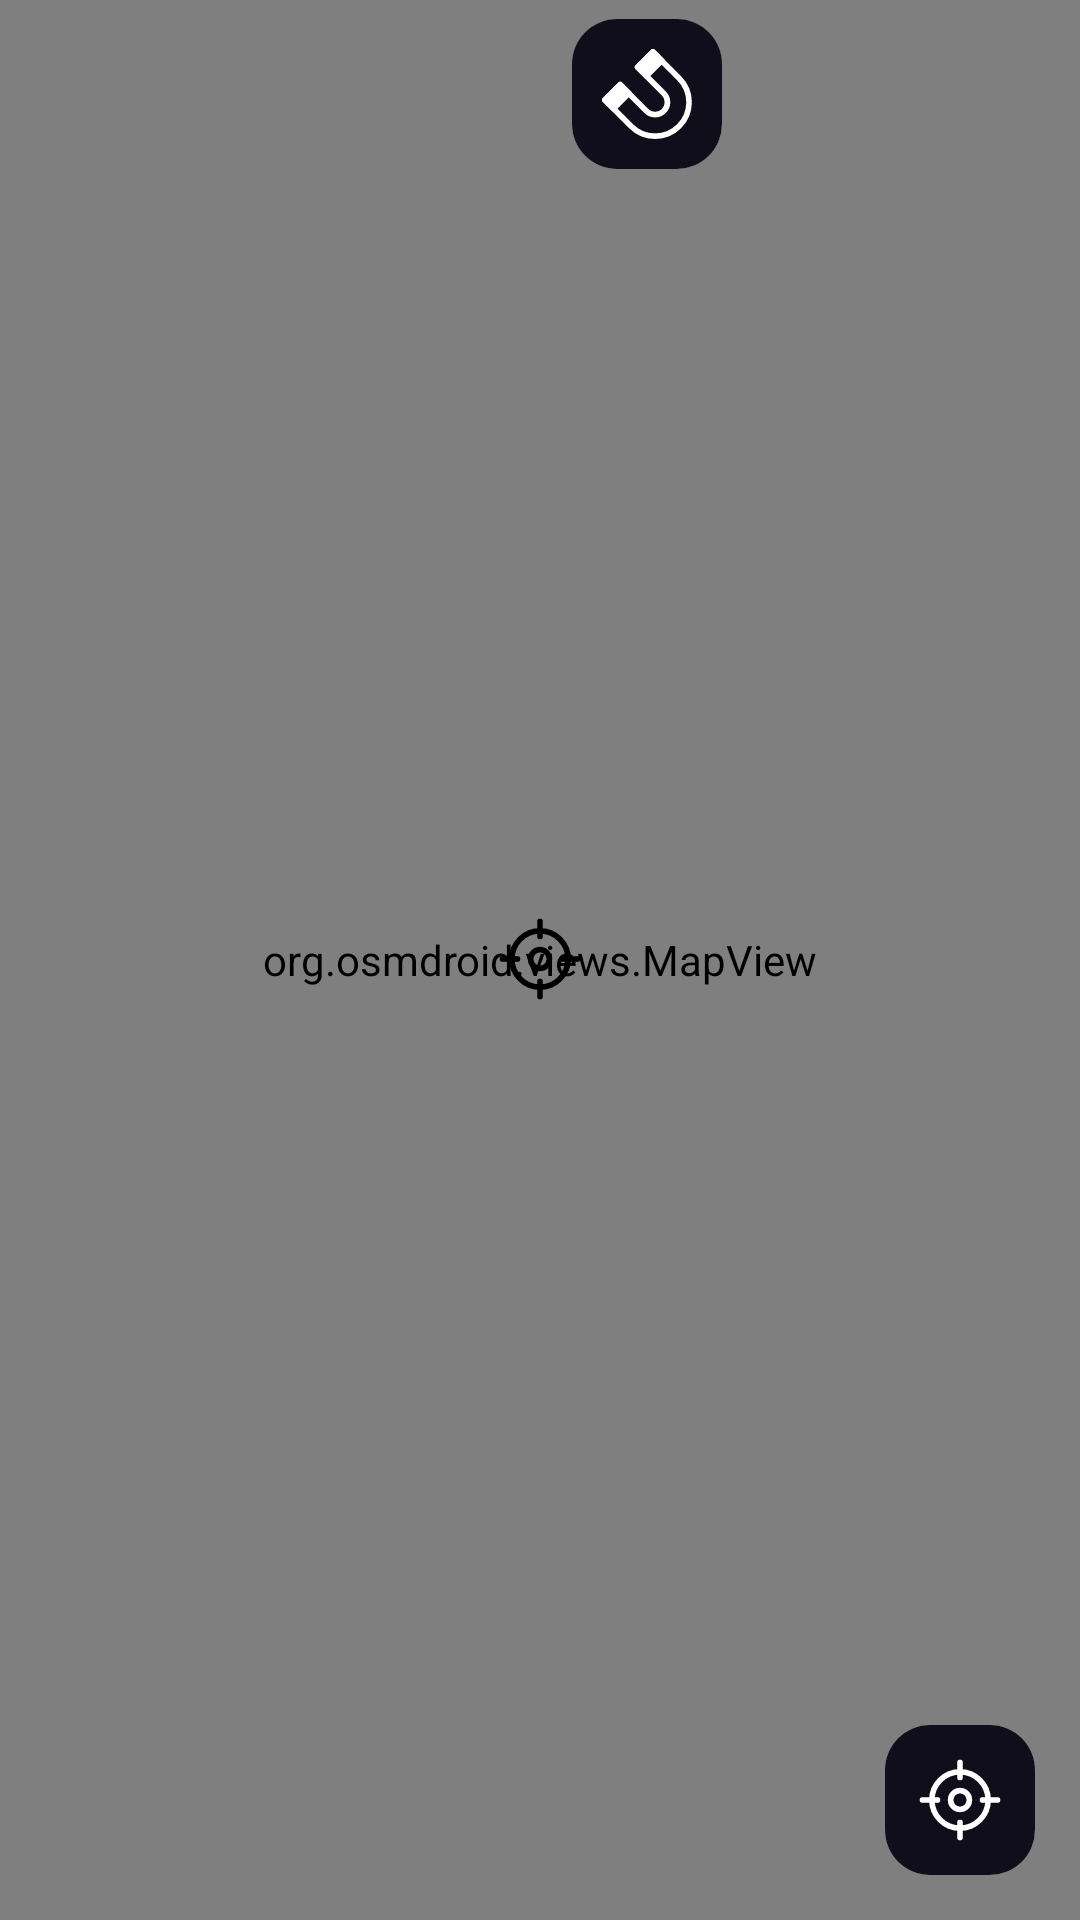

Named icons in this screenshot (1080*1920) and their centers, (x=x, y=y):
snap: (x=647, y=94)
